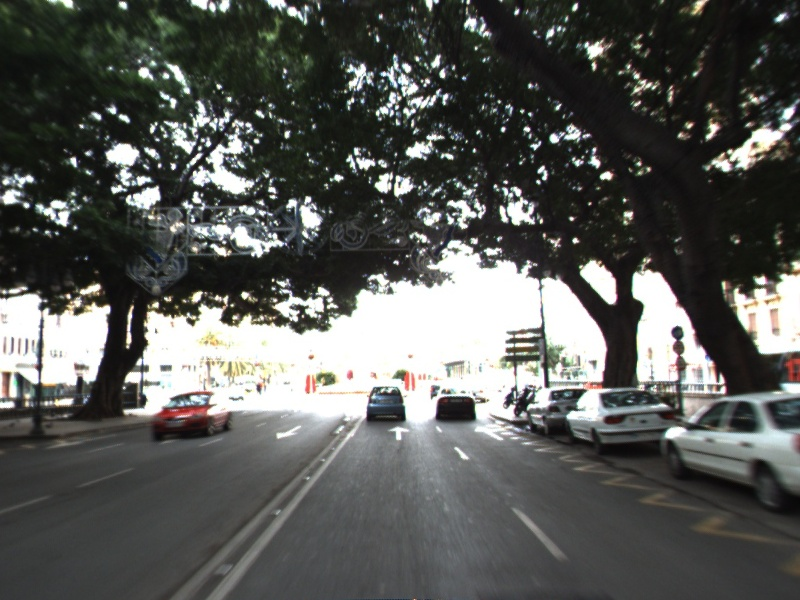STRAIGHT: (472, 424, 505, 442), (386, 424, 412, 442)
